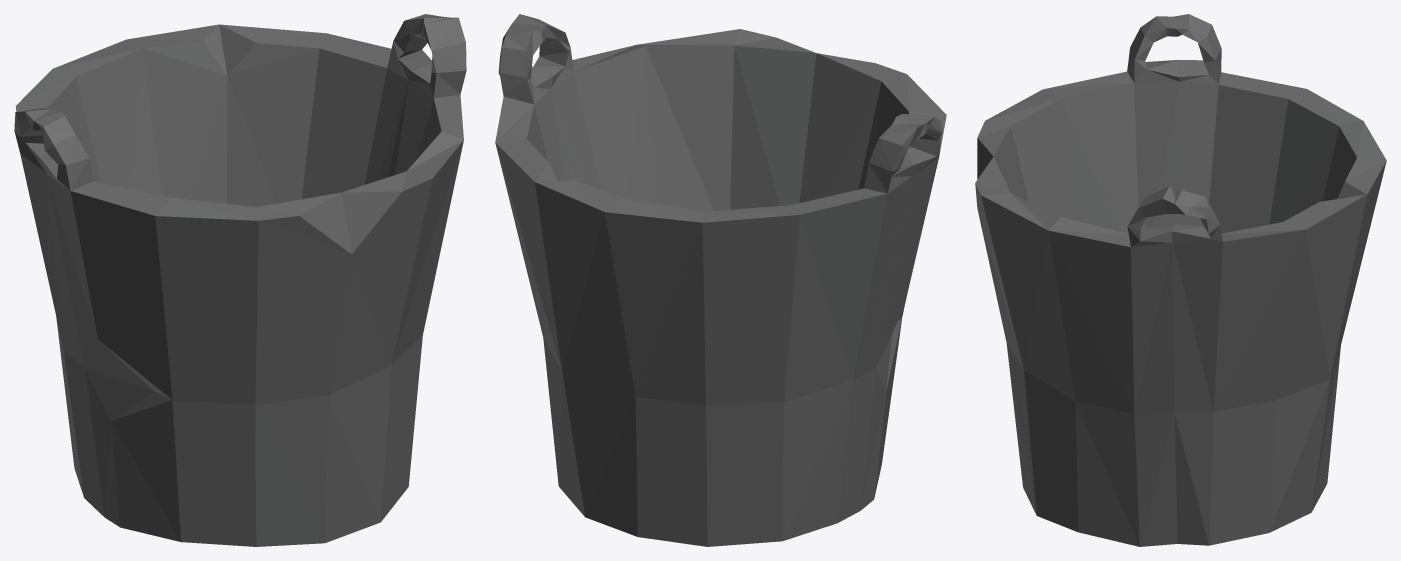
The model's file is SFHW_Herbalism_Tools_008.fbx.
3 renders of one model, left to right at view 1: azimuth 30°, elevation 25°; view 2: azimuth 150°, elevation 25°; view 3: azimuth 270°, elevation 25°, orthographic. The views are drawn at different scales.
Visible parts, largest first — view 1: SFHW_Herbalism_Tools_008; view 2: SFHW_Herbalism_Tools_008; view 3: SFHW_Herbalism_Tools_008.
Part boxes in pixels (x1,y1,x2,y2): SFHW_Herbalism_Tools_008: (14,14,466,546); SFHW_Herbalism_Tools_008: (495,14,946,546); SFHW_Herbalism_Tools_008: (975,14,1386,546).
Size of the model in its own units: 10.68 by 10.03 by 9.78.
